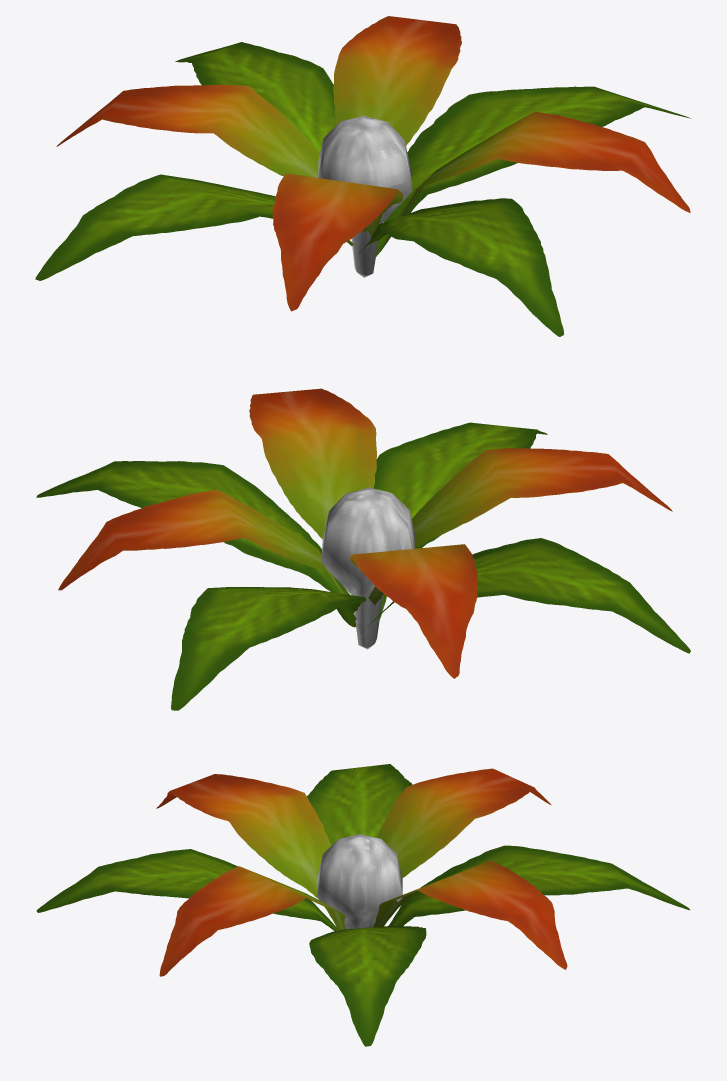
File: poisonflower.obj
The picture shows the model from 3 angles, top to bottom: view 1: azimuth 30°, elevation 25°; view 2: azimuth 150°, elevation 25°; view 3: azimuth 270°, elevation 25°; orthographic projection. The views are drawn at different scales.
Visible parts, largest first — view 1: Duplicate05, Duplicate02, Duplicate03, Duplicate01, Duplicate06, Duplicate04, Sphere01; view 2: Duplicate05, Duplicate02, Duplicate06, Duplicate04, Duplicate03, Duplicate01, Sphere01; view 3: Duplicate05, Duplicate02, Duplicate04, Duplicate03, Duplicate06, Sphere01, Duplicate01.
Part boxes in pixels (x1,y1,x2,y2): Duplicate05: (56, 84, 690, 256); Duplicate02: (175, 42, 563, 336); Duplicate03: (333, 16, 461, 145); Duplicate01: (35, 174, 353, 280); Duplicate06: (382, 111, 690, 248); Duplicate04: (272, 173, 403, 311); Sphere01: (318, 115, 412, 277); Duplicate05: (36, 461, 478, 678); Duplicate02: (171, 422, 547, 710); Duplicate06: (249, 388, 376, 539); Duplicate04: (411, 448, 672, 546); Duplicate03: (58, 489, 354, 612); Duplicate01: (360, 538, 690, 653); Sphere01: (321, 487, 415, 649); Duplicate05: (309, 768, 551, 1046); Duplicate02: (36, 845, 689, 931); Duplicate04: (156, 774, 330, 908); Duplicate03: (373, 860, 567, 969); Duplicate06: (159, 866, 345, 976); Sphere01: (317, 834, 402, 929); Duplicate01: (307, 764, 412, 845).
Size of the model in its own units: 67.24 by 14.56 by 67.24.
